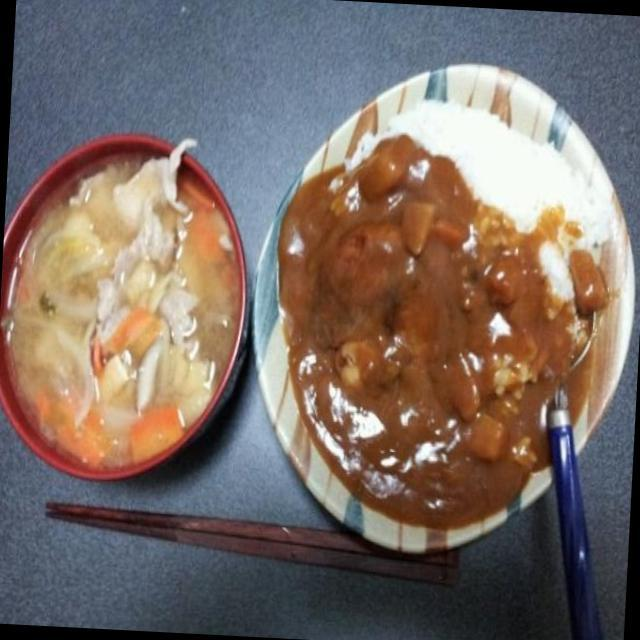Beef Curry: (274, 164, 583, 544)
